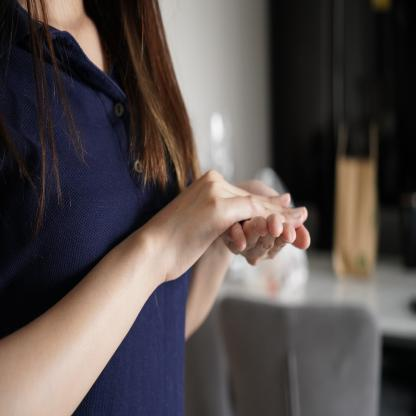Love: (152, 168, 313, 266)
